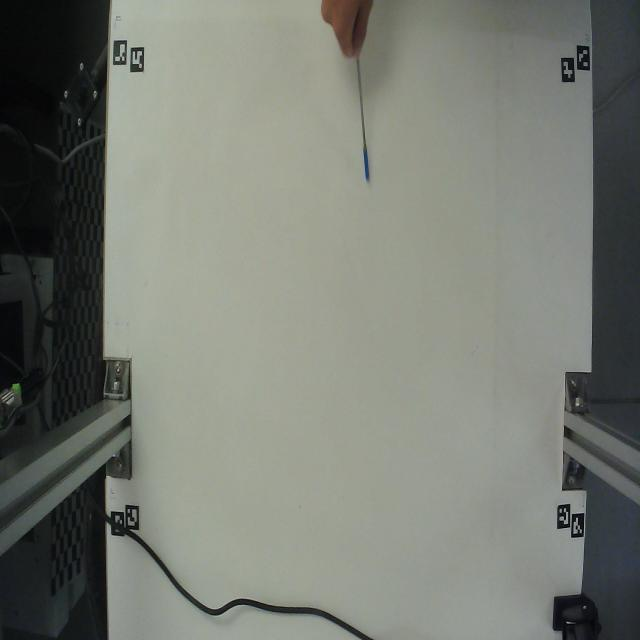Pres: (341, 25, 382, 212)
